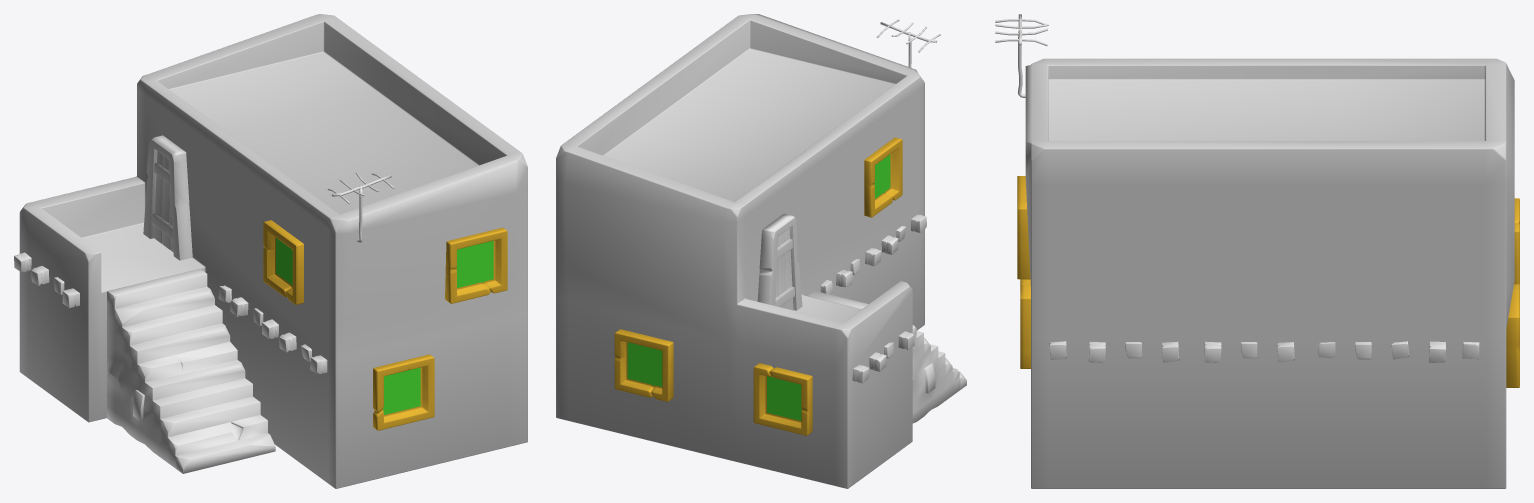
The model's file is house_full_textured.fbx.
The picture shows the model from 3 angles, left to right: view 1: azimuth 30°, elevation 25°; view 2: azimuth 150°, elevation 25°; view 3: azimuth 270°, elevation 25°; orthographic projection. The views are drawn at different scales.
Visible parts, largest first — view 1: House, Stairs, Window_2, Window_3, DoorDram, WoodenBalkiai.018, Window, Door, Antenna; view 2: House, Window_5, Window_4, Stairs, WoodenBalkiai.018, Window, DoorDram, Door, Antenna; view 3: House, WoodenBalkiai.018, Window_4, Window_2, Window_3, Antenna.
Part boxes in pixels (box(x1,y1,x2,y2)): House: box(19, 14, 527, 488); Stairs: box(107, 268, 275, 473); Window_2: box(445, 227, 507, 303); Window_3: box(373, 354, 434, 430); DoorDram: box(143, 135, 192, 260); WoodenBalkiai.018: box(14, 252, 327, 373); Window: box(263, 220, 303, 304); Door: box(152, 151, 173, 252); Antenna: box(327, 172, 394, 242); House: box(556, 14, 924, 488); Window_5: box(753, 363, 812, 435); Window_4: box(614, 329, 673, 401); Stairs: box(808, 291, 966, 423); WoodenBalkiai.018: box(820, 214, 926, 383); Window: box(864, 137, 902, 217); DoorDram: box(757, 213, 802, 310); Door: box(775, 228, 794, 310); Antenna: box(876, 19, 940, 67); House: box(1025, 58, 1514, 488); WoodenBalkiai.018: box(1049, 341, 1479, 362); Window_4: box(1506, 284, 1519, 387); Window_2: box(1017, 176, 1030, 279); Window_3: box(1020, 279, 1030, 368); Antenna: box(995, 14, 1048, 97).
Size of the model in its own units: 1639 by 1441 by 1876.
